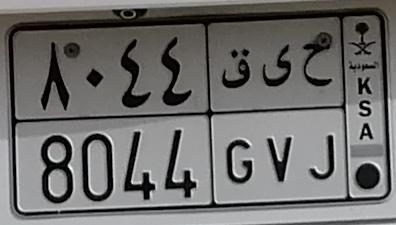0: (81, 66, 114, 203)
4: (159, 35, 199, 198), (120, 38, 157, 202)
8: (41, 40, 74, 205)
G: (220, 46, 257, 183)
J: (301, 42, 336, 182)
V: (262, 43, 295, 183)
